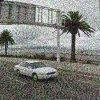cars: (14, 60, 58, 82)
